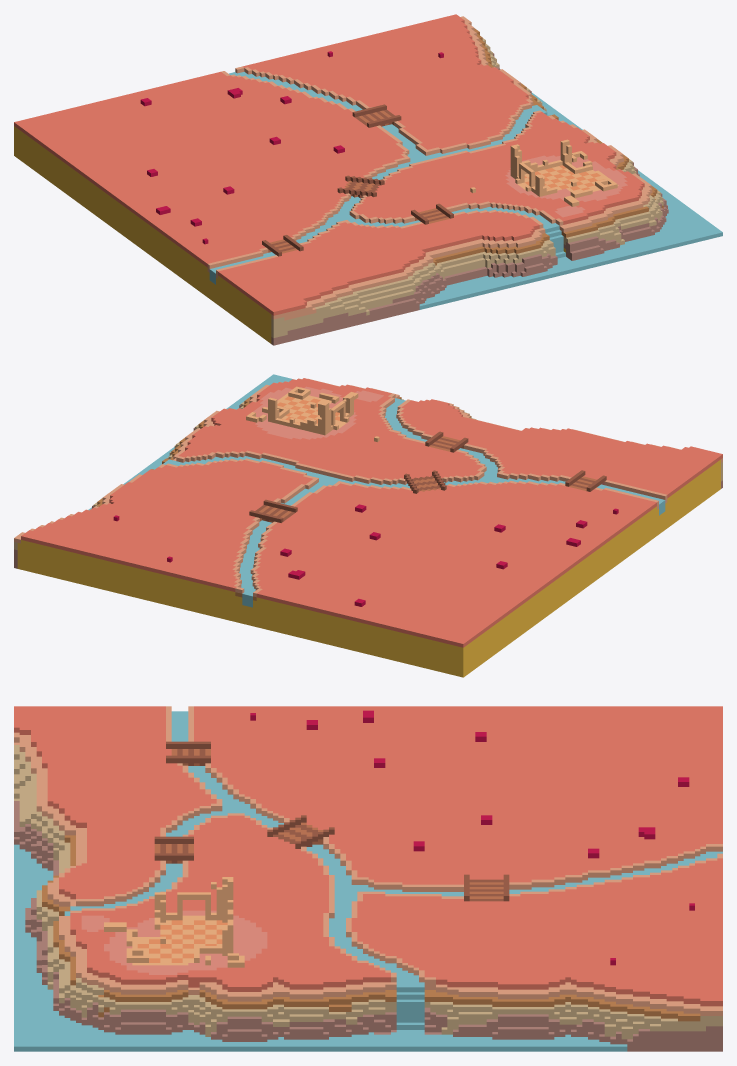
The model's file is basicland.obj.
The picture shows the model from 3 angles, top to bottom: view 1: azimuth 30°, elevation 25°; view 2: azimuth 150°, elevation 25°; view 3: azimuth 270°, elevation 25°; orthographic projection. The views are drawn at different scales.
Size of the model in its own units: 126 by 17 by 126.
